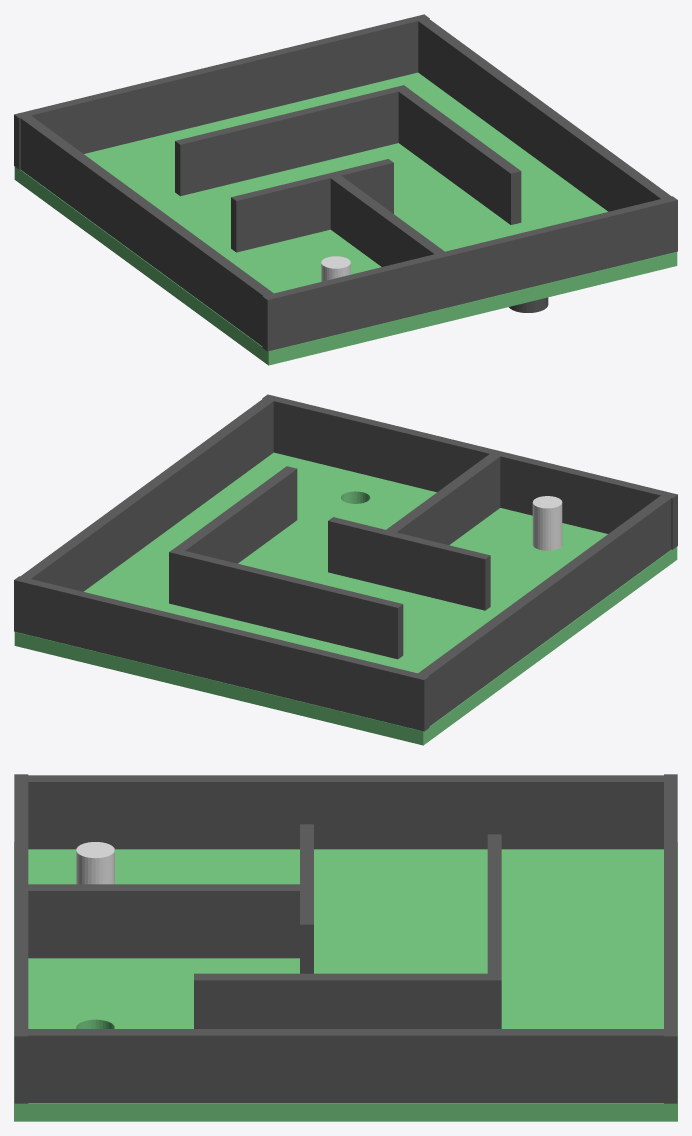
Rendered from Tutorial Map.fbx.
3 views of the same model, one above another, from view 1: azimuth 30°, elevation 25°; view 2: azimuth 150°, elevation 25°; view 3: azimuth 270°, elevation 25° (orthographic). The views are drawn at different scales.
Parts seen in each view (by area): view 1: Floor, Boundary.001, Boundary, Boundary.003, Boundary.002, Wall.002, Wall, Wall.003, Wall.001, Hole Puncher; view 2: Floor, Boundary, Boundary.001, Boundary.003, Boundary.002, Wall.002, Wall.003, Wall, Wall.001, Hole Puncher; view 3: Floor, Boundary.002, Boundary.003, Wall.001, Wall, Boundary.001, Boundary, Wall.002, Wall.003, Hole Puncher.
Part boxes in pixels (box(x1,y1,x2,y2)): Floor: box(14, 72, 677, 365); Boundary.001: box(262, 196, 677, 351); Boundary: box(14, 14, 429, 169); Boundary.003: box(17, 113, 278, 345); Boundary.002: box(415, 15, 675, 211); Wall.002: box(175, 85, 408, 196); Wall: box(395, 86, 521, 224); Wall.003: box(231, 159, 393, 252); Wall.001: box(327, 174, 444, 266); Hole Puncher: box(321, 256, 350, 281); Floor: box(14, 452, 677, 745); Boundary: box(14, 576, 429, 731); Boundary.001: box(262, 394, 677, 549); Boundary.003: box(414, 494, 675, 725); Boundary.002: box(16, 398, 273, 591); Wall.002: box(169, 550, 403, 659); Wall.003: box(328, 517, 490, 610); Wall: box(171, 466, 297, 563); Wall.001: box(386, 454, 500, 544); Hole Puncher: box(532, 496, 562, 550); Floor: box(14, 842, 677, 1121); Boundary.002: box(15, 1029, 674, 1102); Boundary.003: box(17, 775, 674, 849); Wall.001: box(28, 884, 309, 958); Wall: box(194, 973, 496, 1028); Boundary.001: box(14, 774, 28, 1103); Boundary: box(664, 774, 677, 1103); Wall.002: box(487, 834, 501, 1028); Wall.003: box(300, 824, 313, 973); Hole Puncher: box(76, 842, 114, 884).
Bounding box in the file's own units: 1972 × 451 × 2113.
